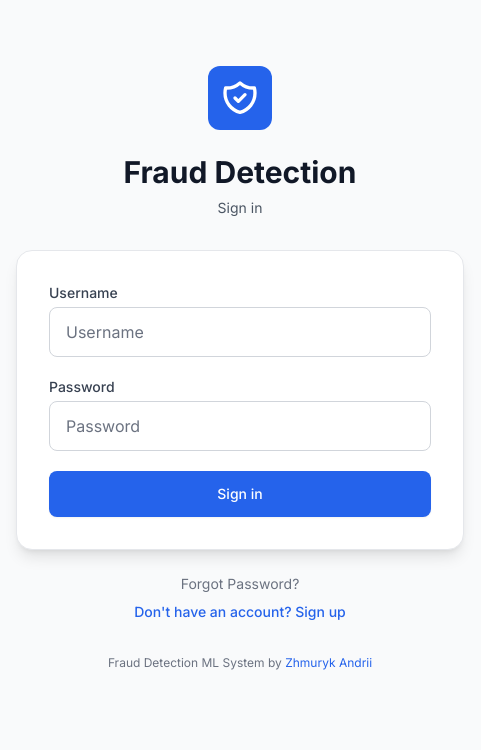
Test: Login Component › Mode Switching › switches to register mode when clicking sign up
The width and height of the screenshot is (481, 750).
Click the button "Don't have an account? Sign up": x=240, y=612 [134,602,346,622]
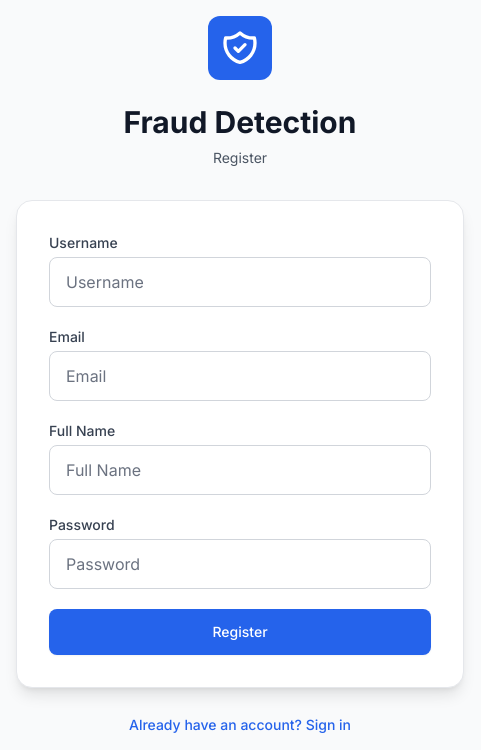
Now the field labelled "Email" is shown, box [49,351,431,401]
Now the field labelled "Full Name" is shown, box [49,445,431,495]
